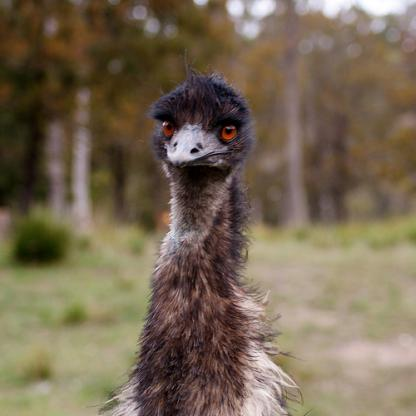bird: (92, 72, 302, 415)
